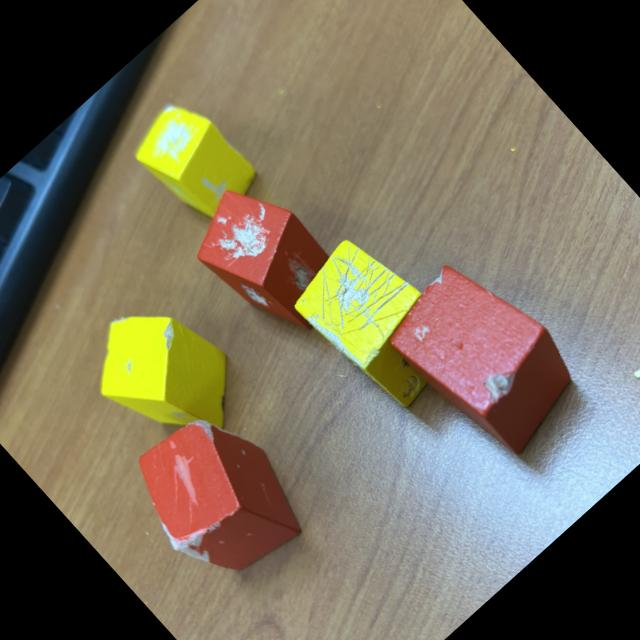broken: (374, 242, 598, 471), (111, 390, 323, 604), (70, 277, 264, 474), (282, 223, 474, 420), (175, 165, 360, 354), (122, 88, 266, 234)
